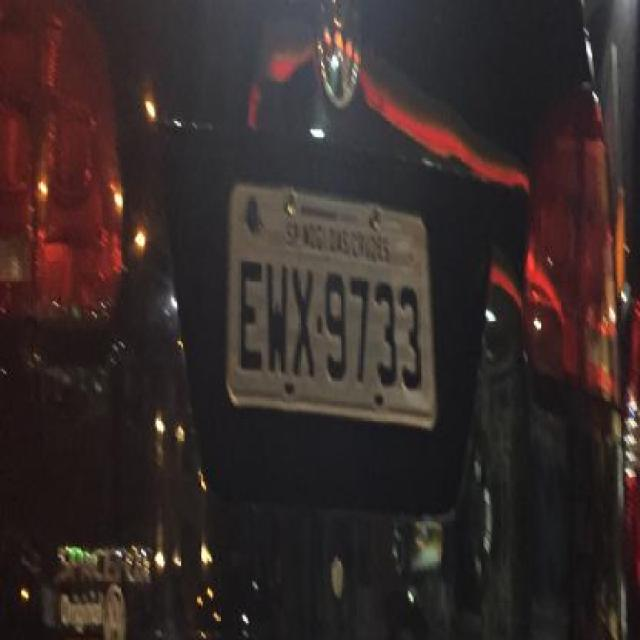old_plate: (219, 176, 448, 434)
